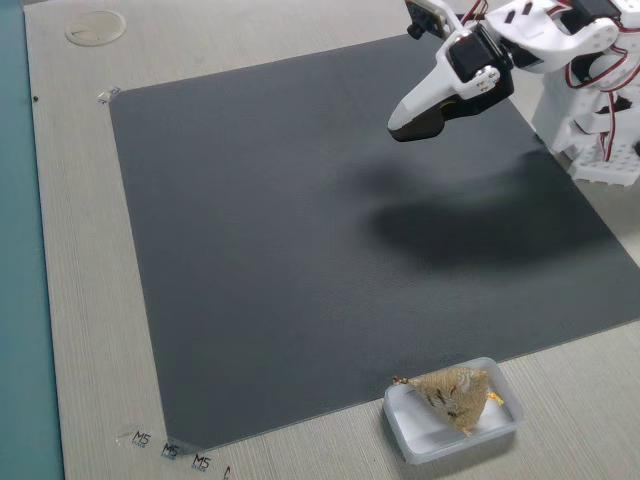gripper: (381, 26, 516, 151)
